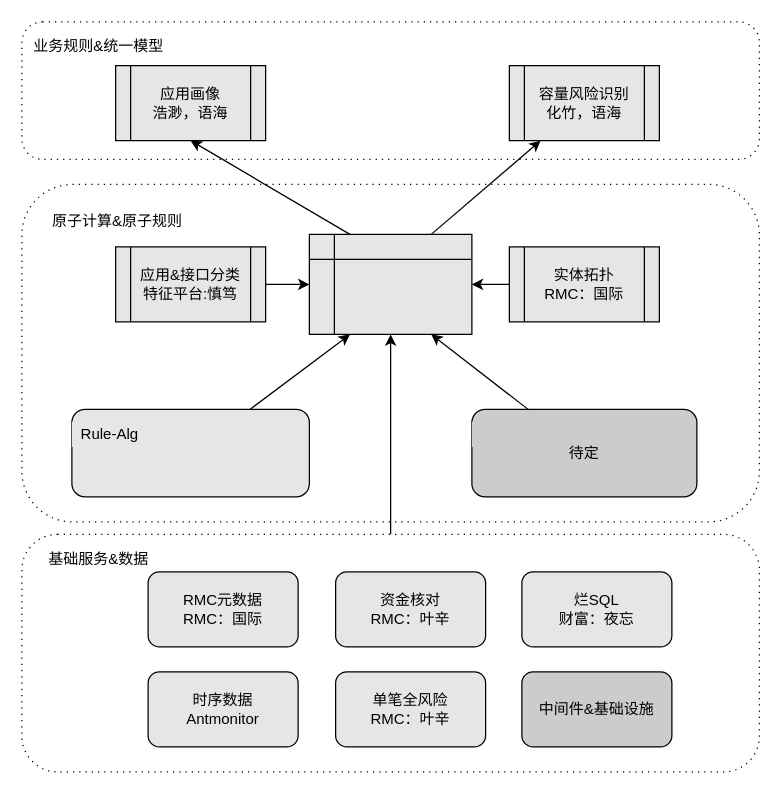
The diagram is 781 pixels wide and 794 high, and some of its shapes have lost their labels. The box of each missing label's shape, as (x1, y1, x2, y2) in pixels:
Rule-SRE: (471, 421, 559, 446)
慎笃、汴南: (71, 408, 309, 497)
聚合计算 语海，弘壹: (308, 233, 472, 334)
